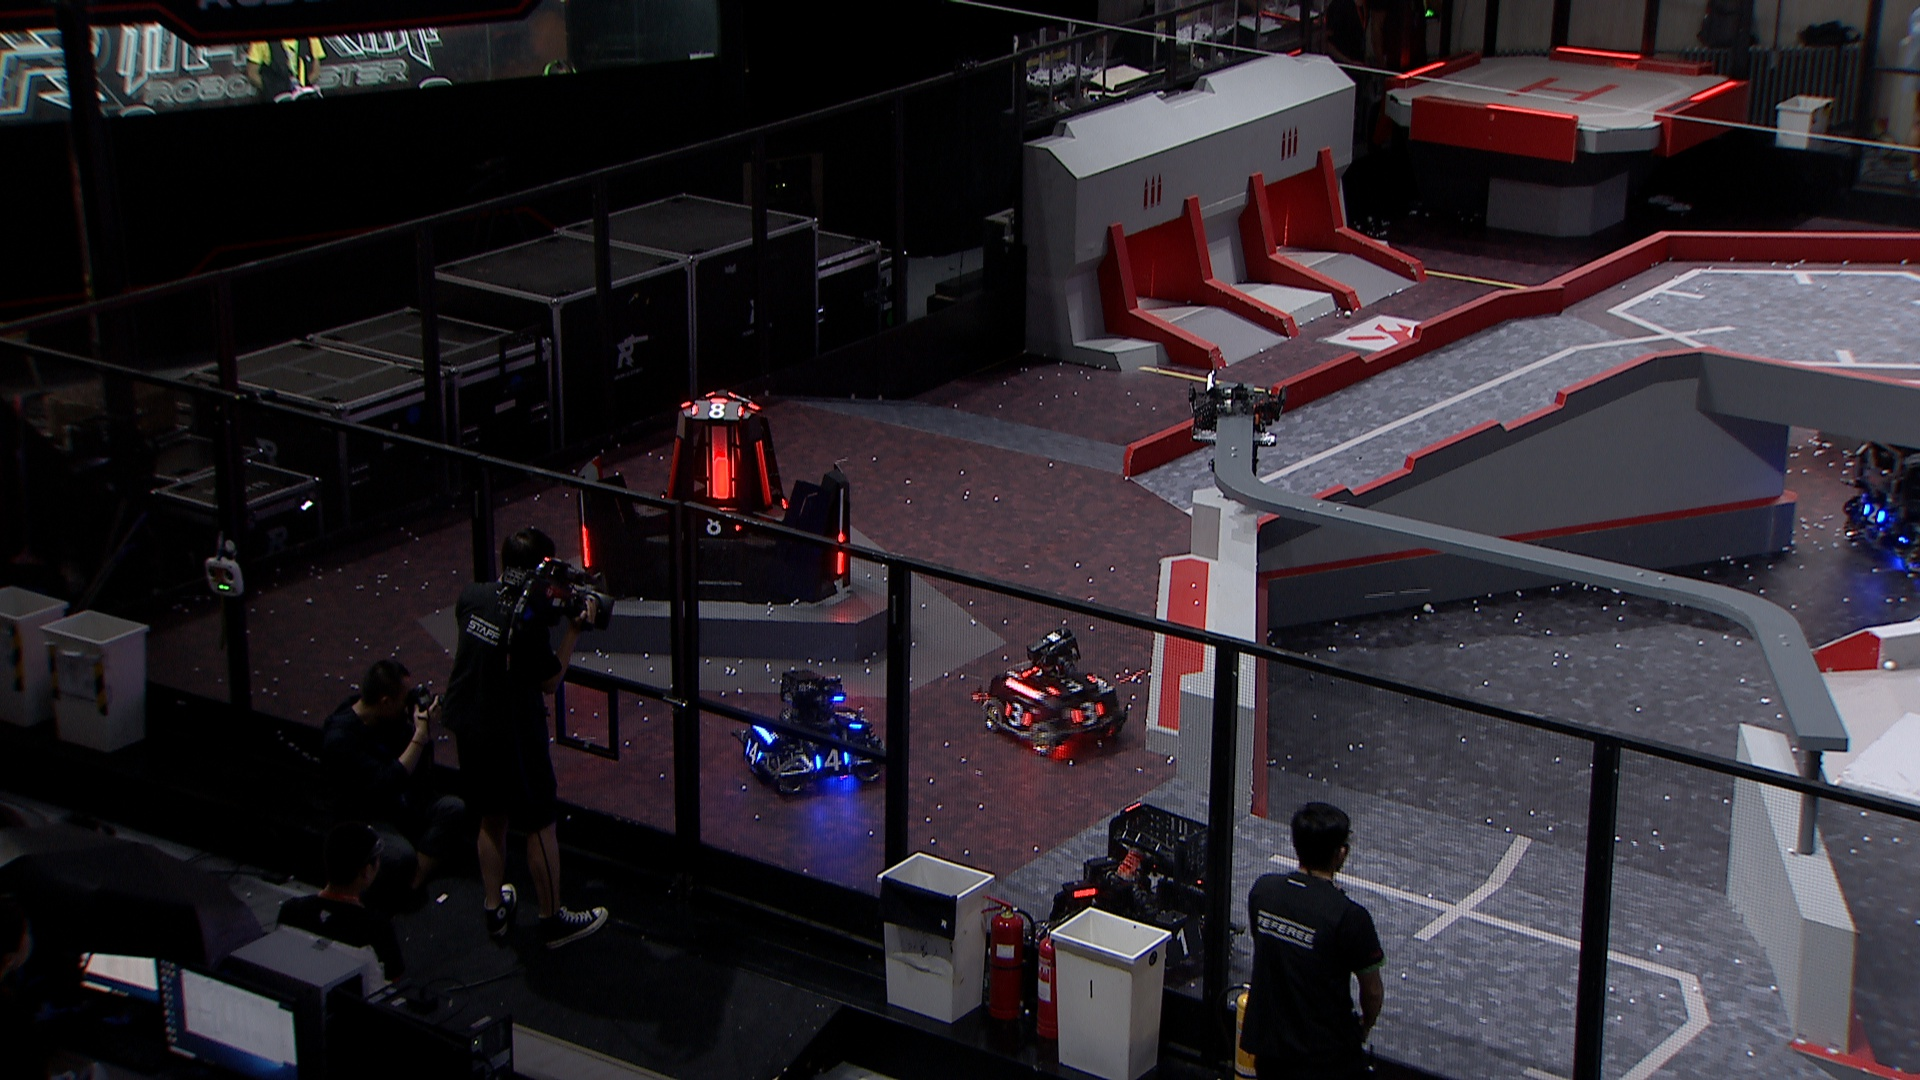armor: (1163, 920, 1200, 957), (665, 434, 684, 500), (756, 440, 774, 505), (709, 455, 733, 500), (998, 699, 1033, 727), (690, 400, 740, 418), (692, 513, 738, 533), (1072, 699, 1106, 725), (1051, 678, 1092, 698), (833, 529, 849, 578), (816, 749, 851, 769), (835, 704, 860, 731), (1858, 501, 1883, 527), (579, 524, 591, 567), (742, 737, 761, 765)
base: (570, 386, 855, 605)
car: (1046, 800, 1247, 988), (735, 665, 887, 796), (978, 624, 1126, 750), (1830, 418, 1920, 584)
watcher: (1187, 368, 1287, 483)
